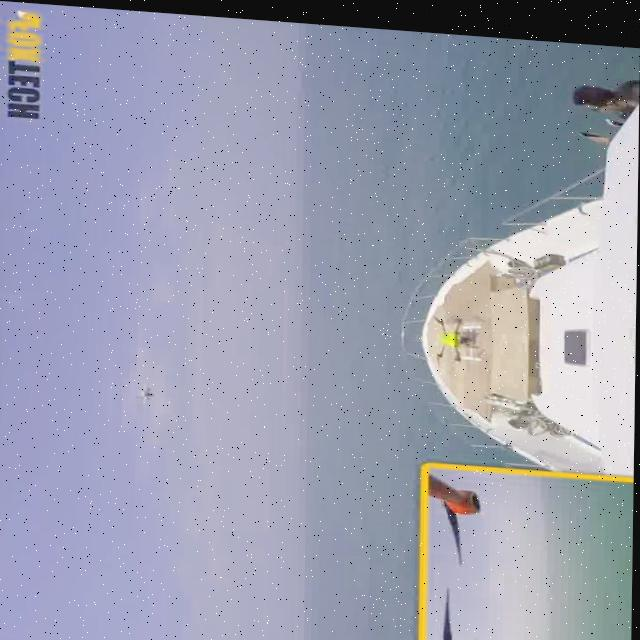drone: (420, 304, 493, 361), (120, 371, 163, 408)
